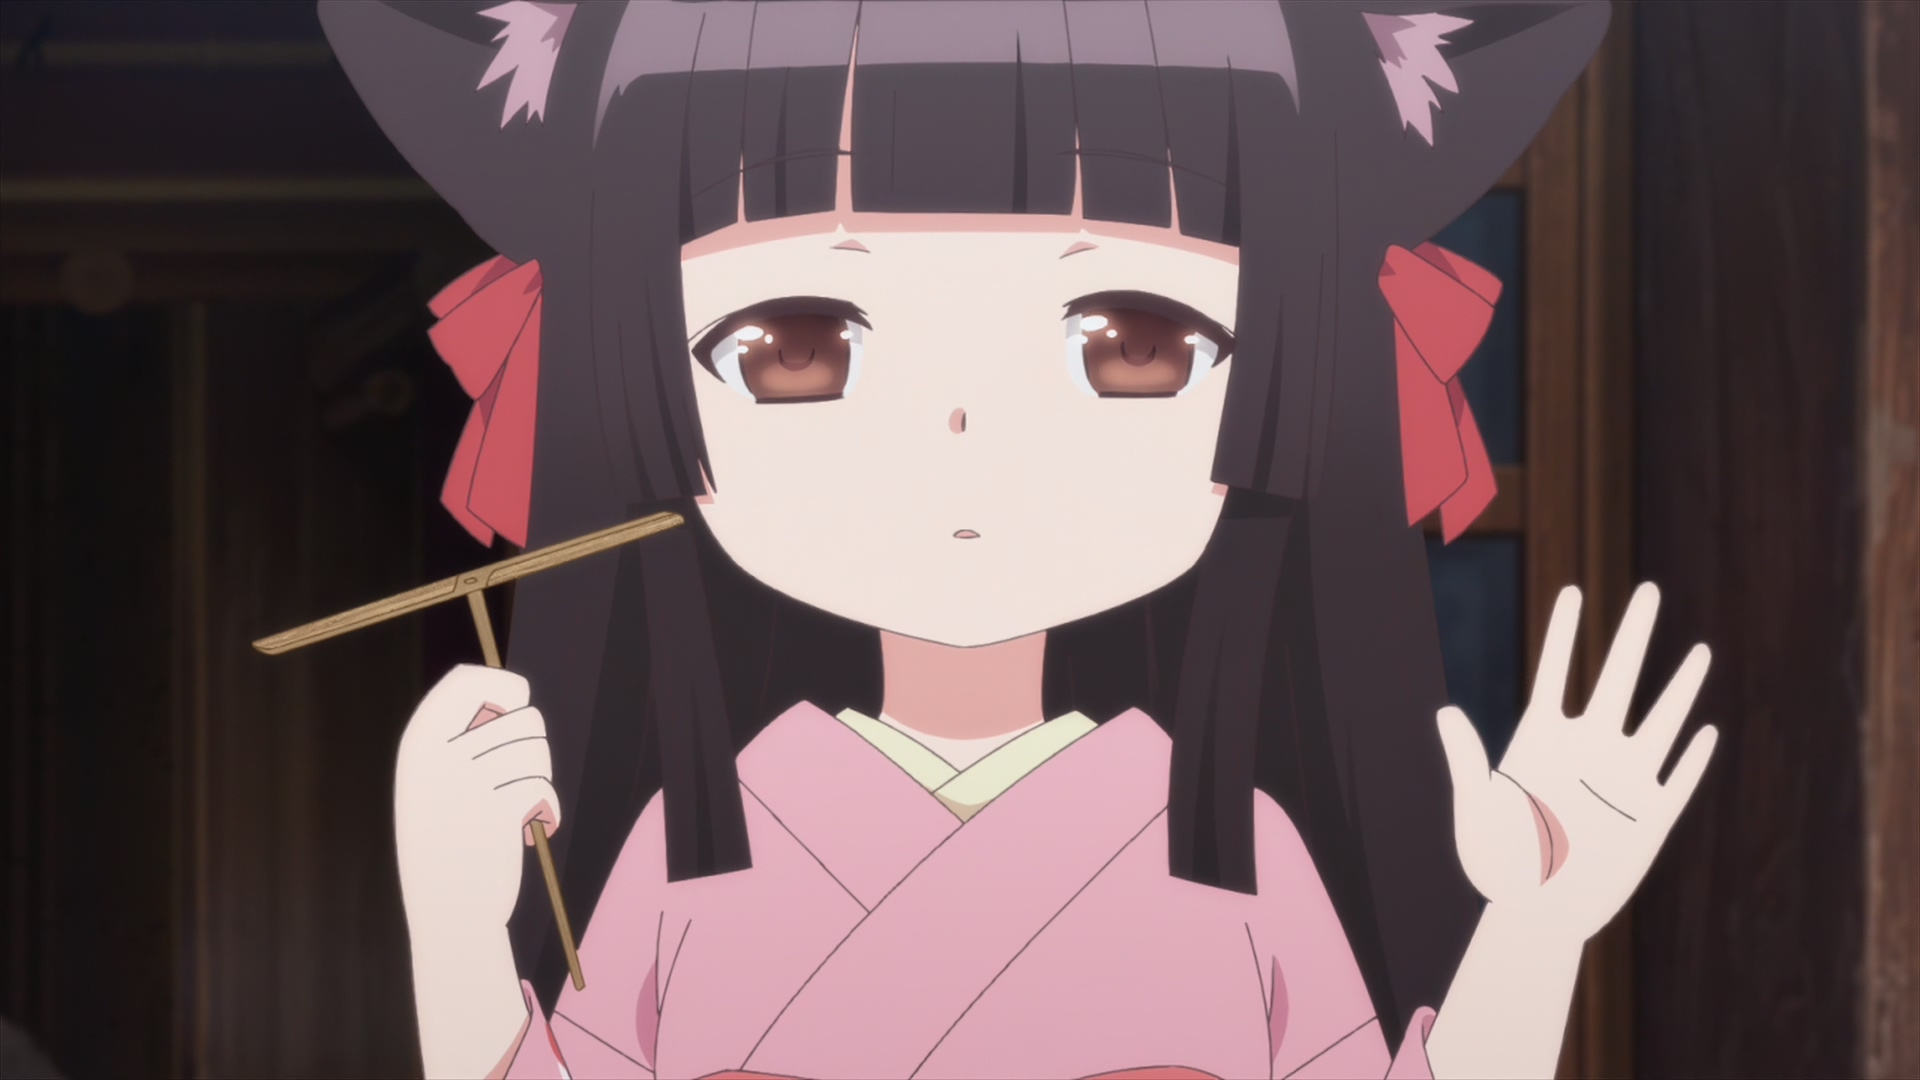樱: (315, 1, 1716, 1080)
